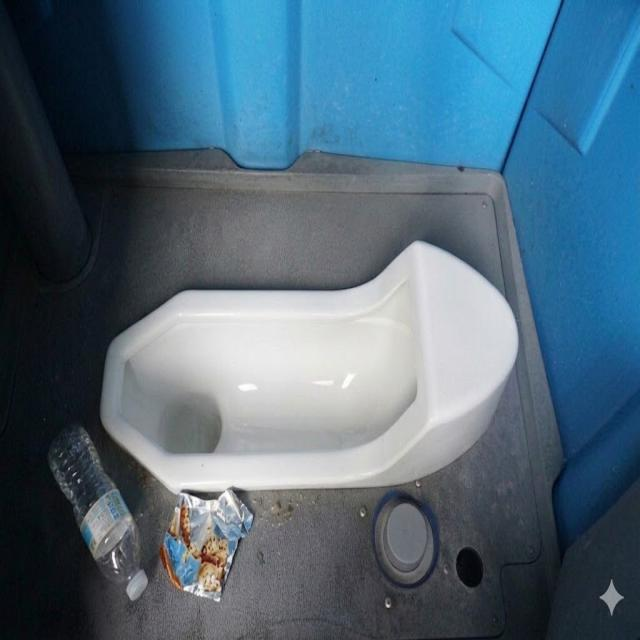garbage: (49, 424, 151, 600), (155, 490, 253, 614)
